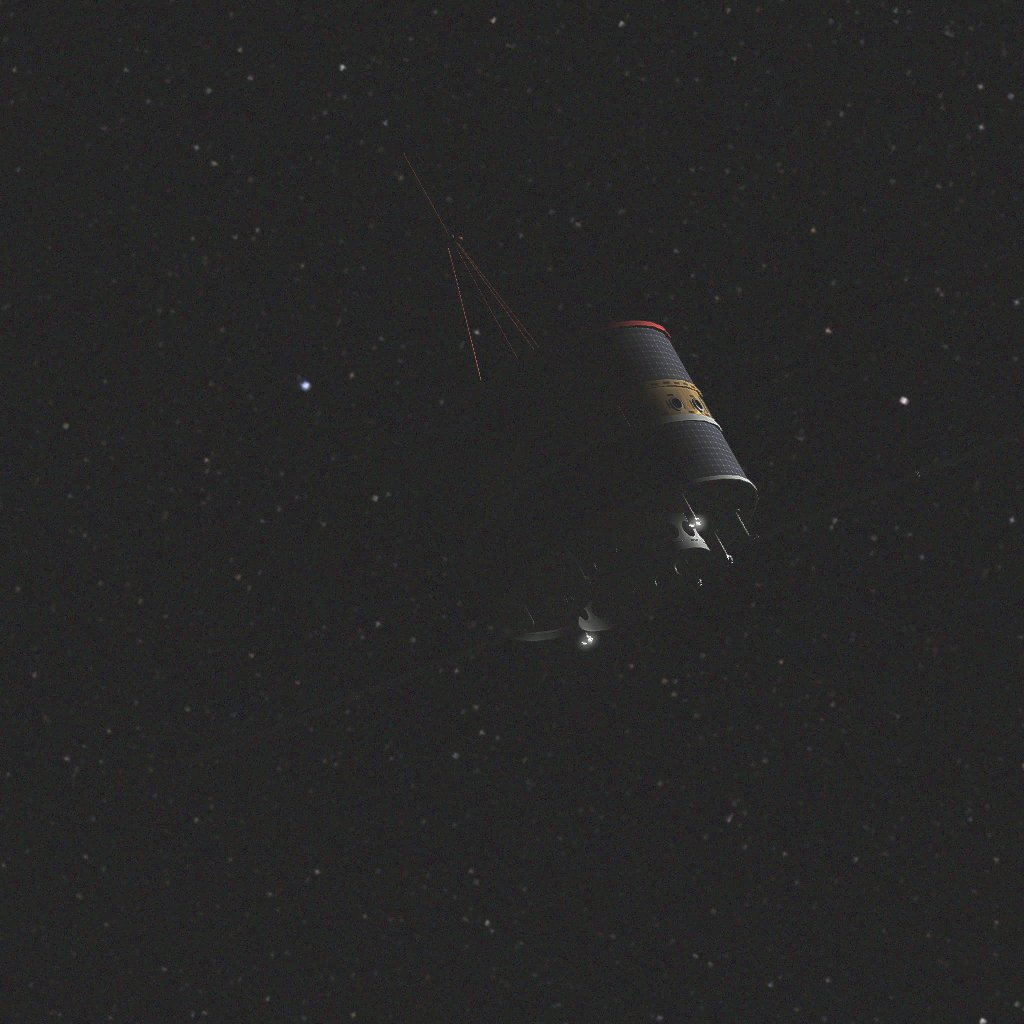double_star: (172, 154, 1024, 777)
